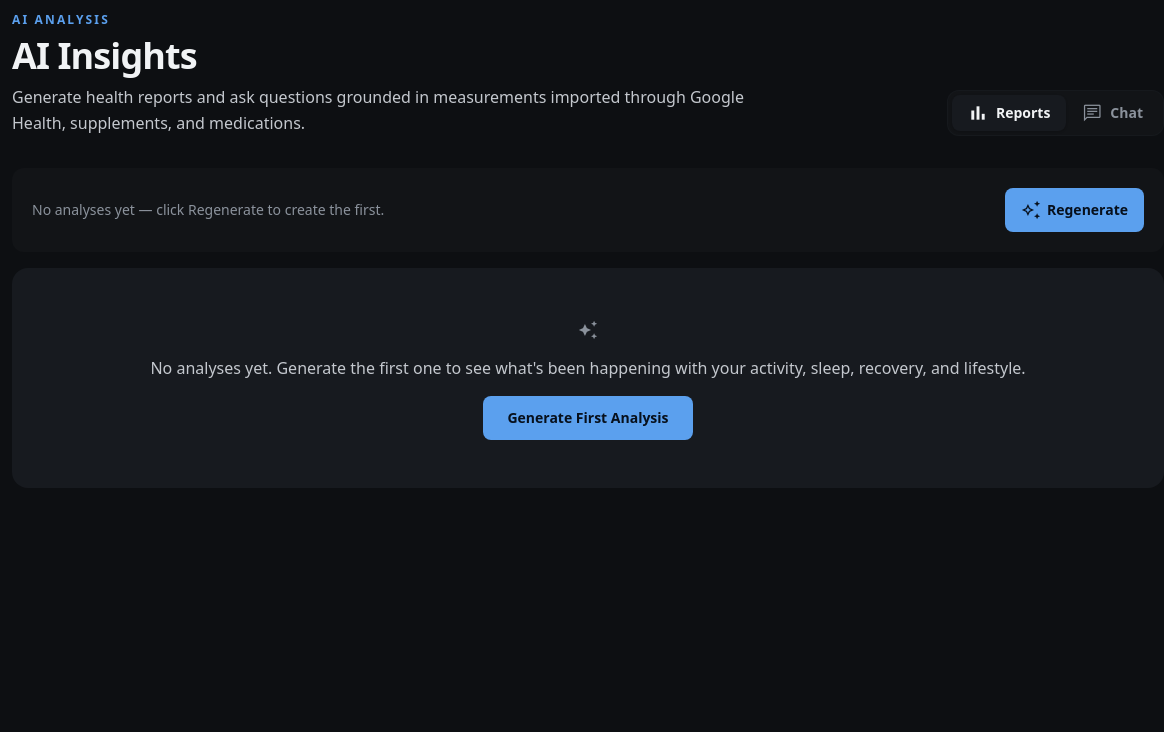
Scenario: AI Insights generation start › shows an alert when starting a generation fails
The image size is (1164, 732).
What coordinates should you click on to do the following:
click the button "Generate First Analysis"
I would click on:
 (588, 418)
Its box is [483,396,692,440].
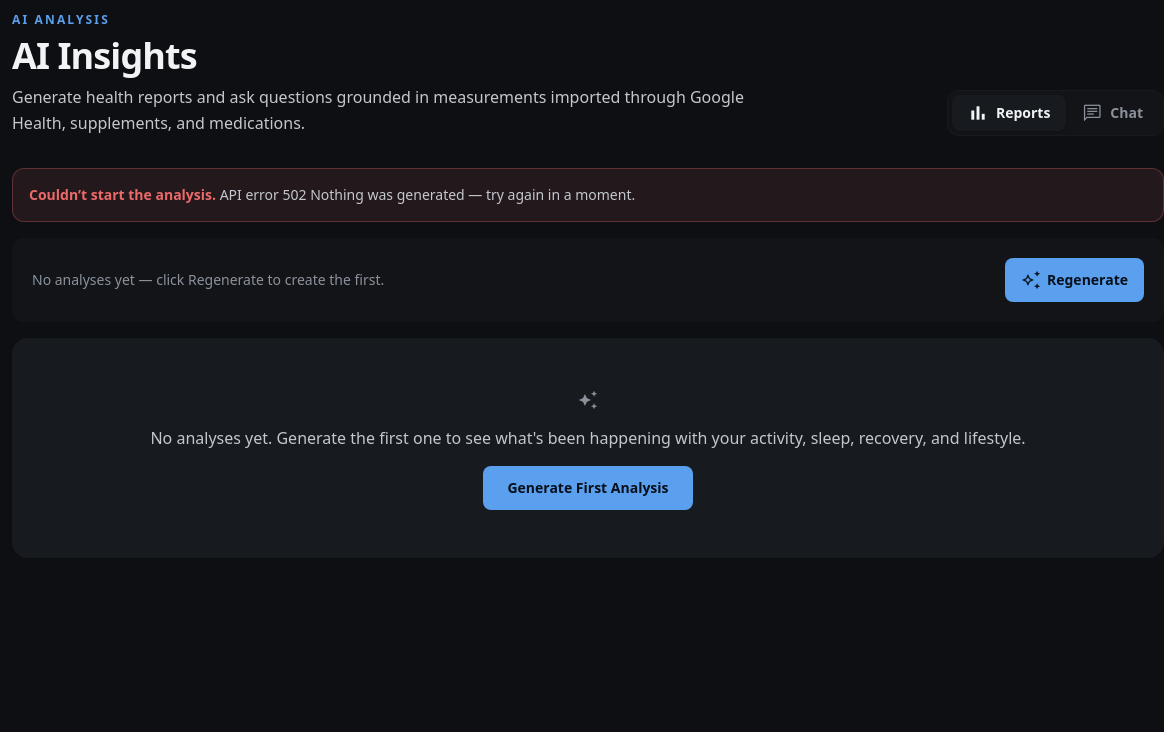
Check: the button "Generate First Analysis" is enabled, box [483,466,692,510]
Check: the message shows "Couldn’t start the analysis.", box [29,185,216,204]
Check: the message shows "API error 502", box [220,185,306,204]
